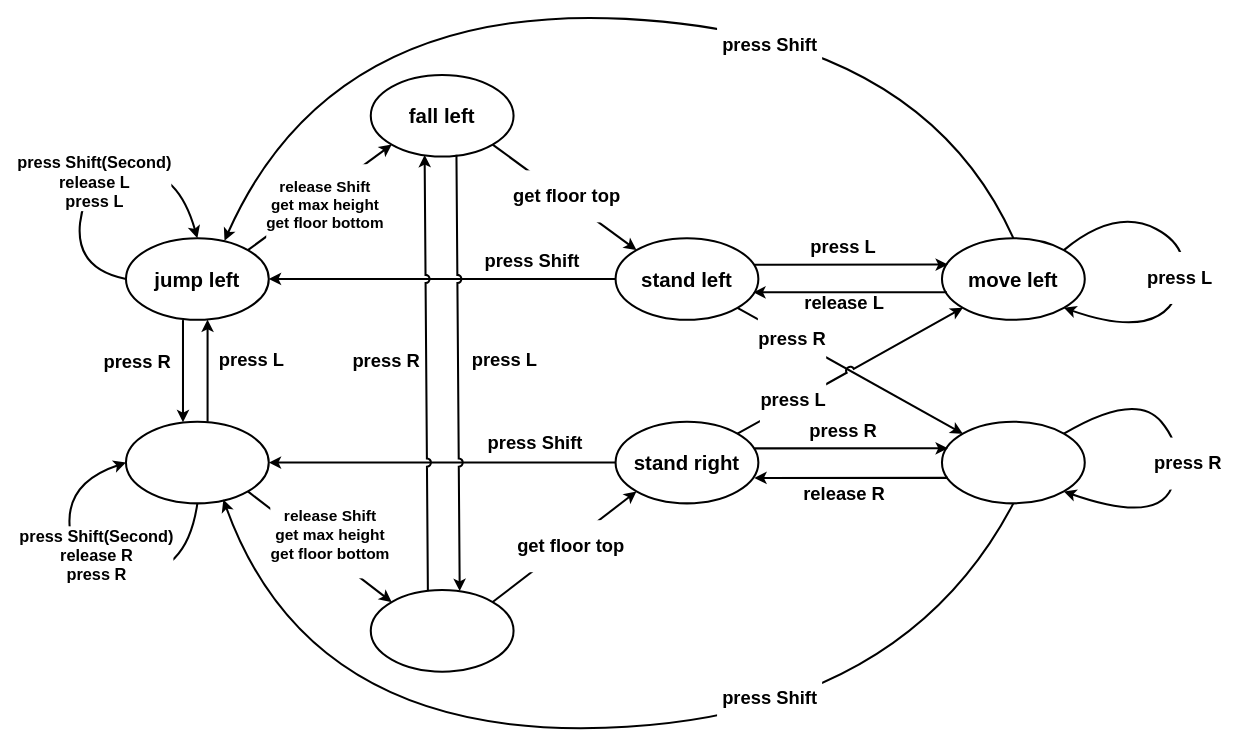
Some shapes in this 1239 by 748 pixel diagram are drawn without their labels. The shapes that lost their labels are listed below. From the top down, each one's centre as x and y in pixels, then its label:
At pixel 196 462: "jump right".
At pixel 1012 462: "move right".
At pixel 441 630: "fall right".
